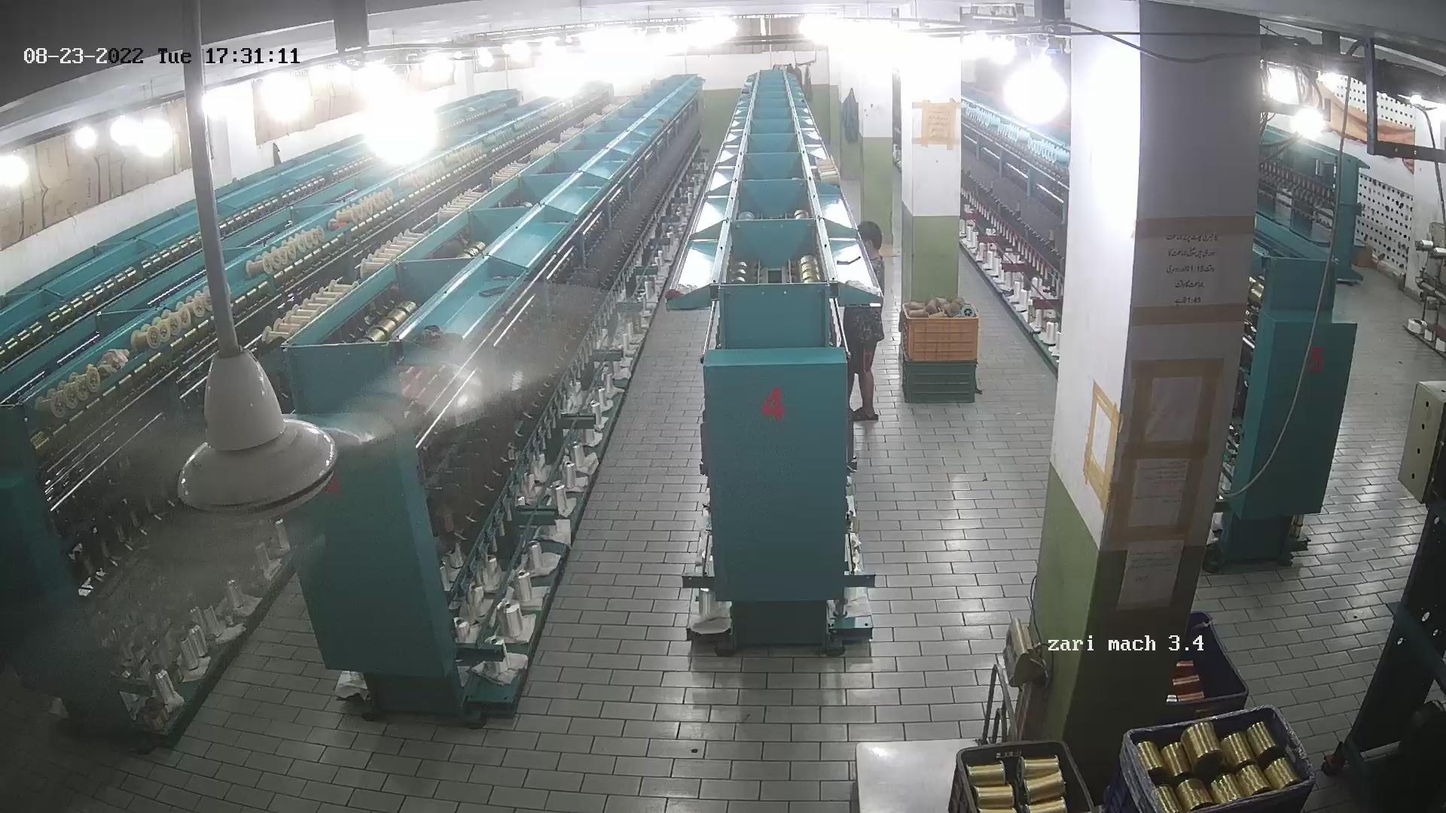person: (844, 222, 881, 426)
